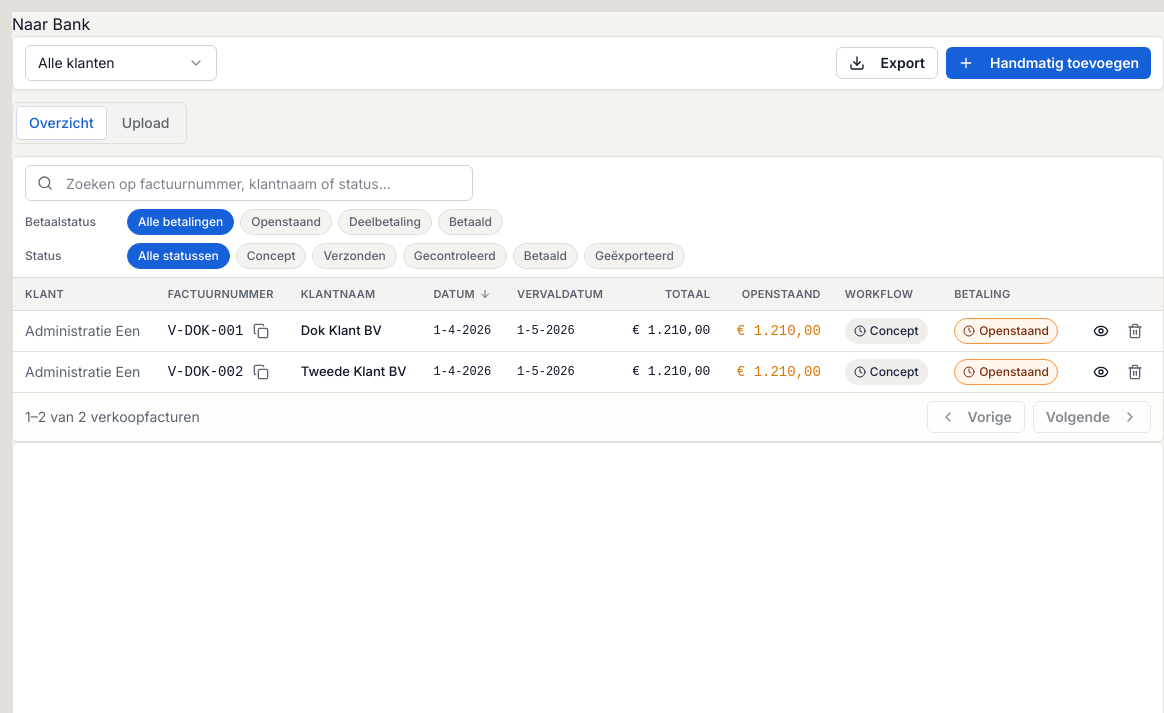
Test: Verkoop — desktop detaildok (>= 1360px) › wisselt zonder vraag van factuur zolang er niets is gewijzigd
Step 1. Click the 2nd row → (588, 330), box [13,310,1163,351]
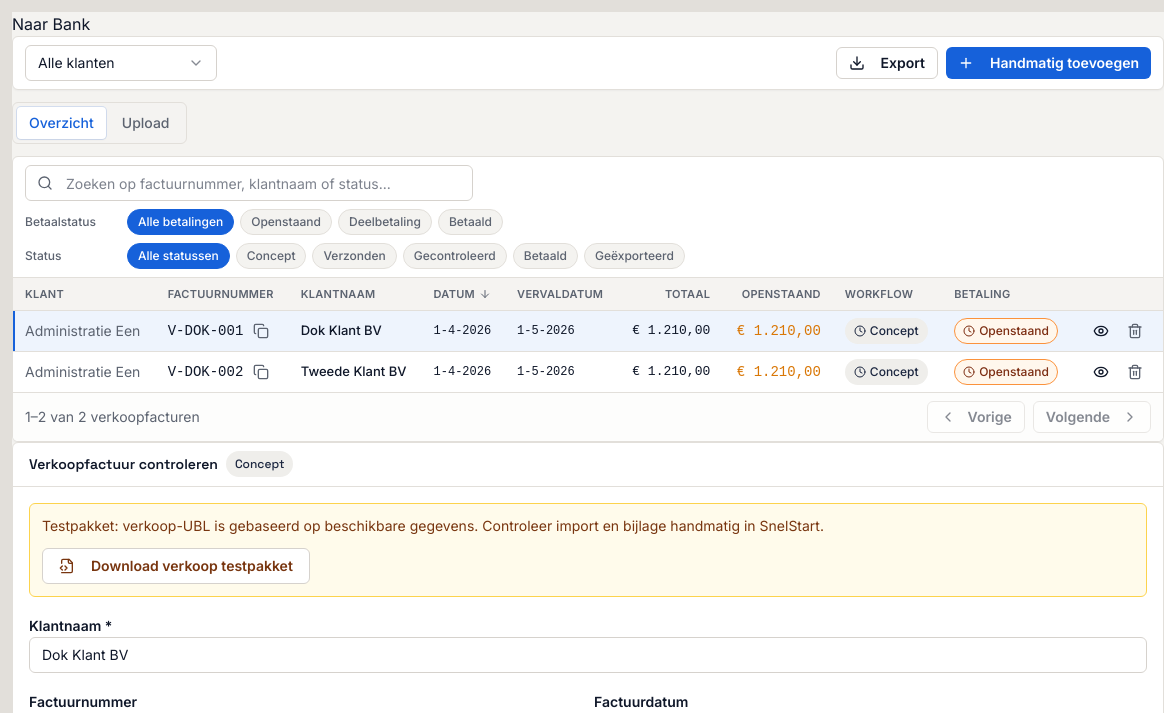
Step 2. Click the 3rd row → (83, 371), box [13,351,1163,392]
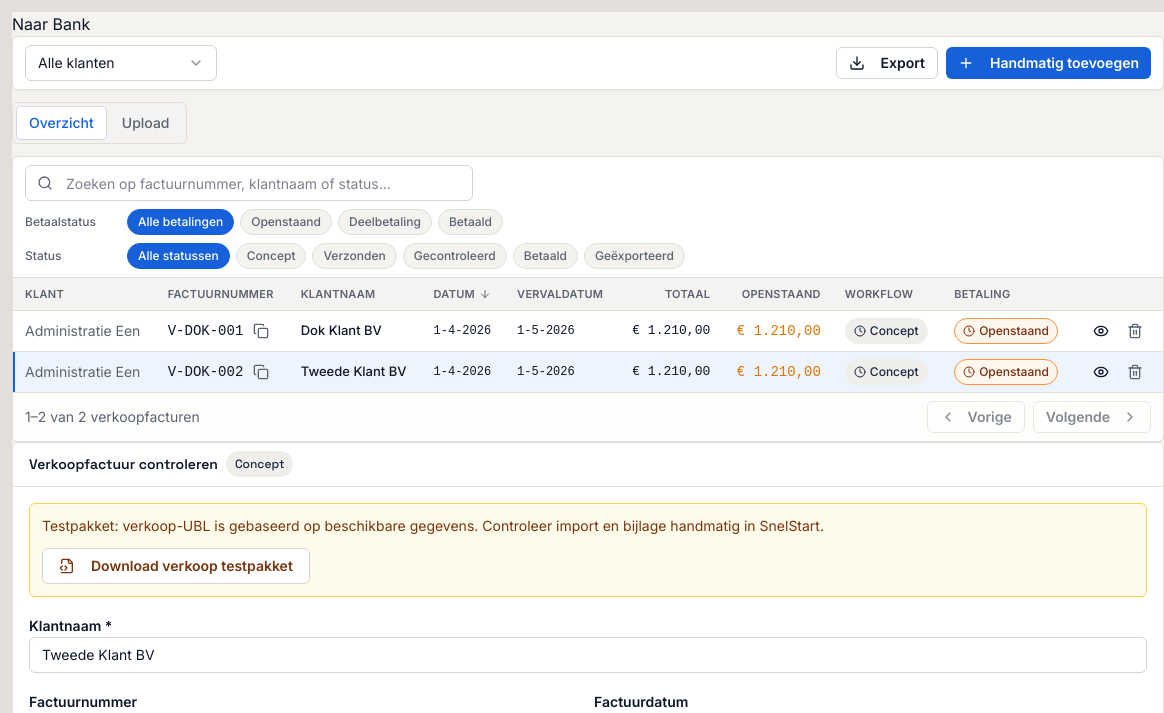
Expected: the field showing "Tweede Klant BV" below "Klantnaam *" is shown, [29,636,1147,672]
